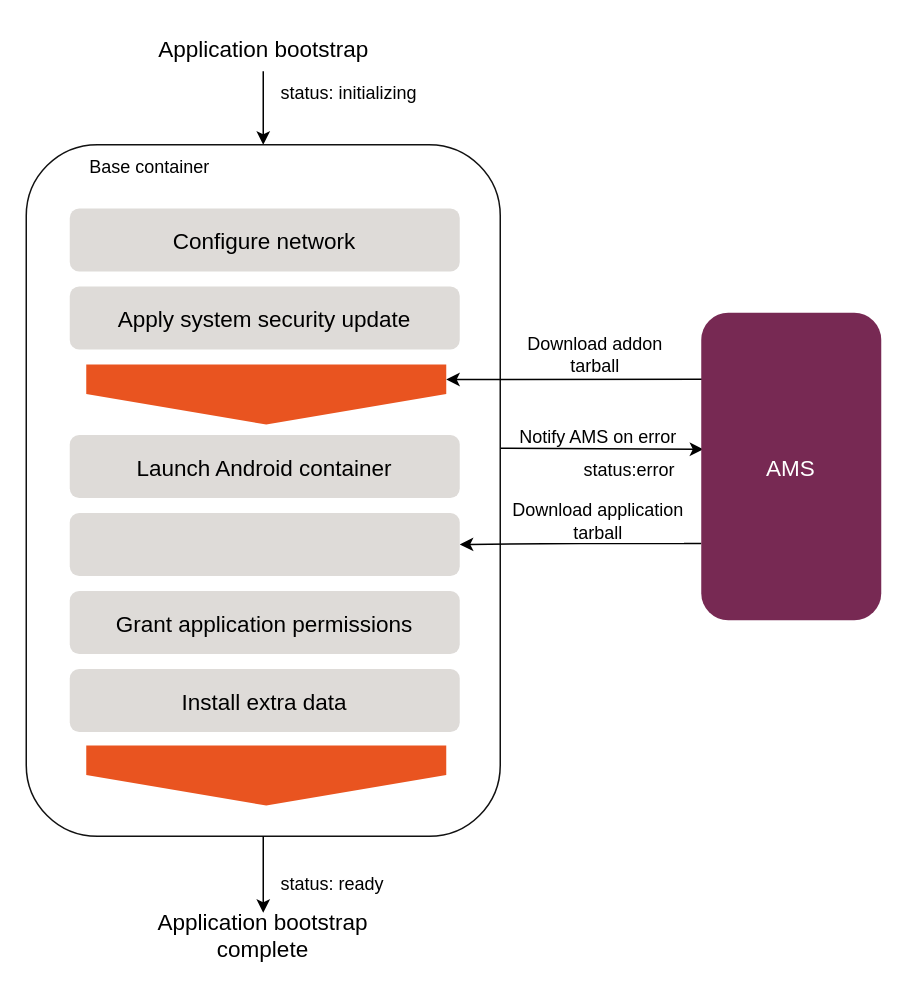
Image size: 908x987. Some labels were removed from this diagram. The centre of each missing label's shape, as x and y in pixels:
"Install APK" belongs at [264,543].
"post-start" belongs at [266,775].
"pre-start" belongs at [266,394].
